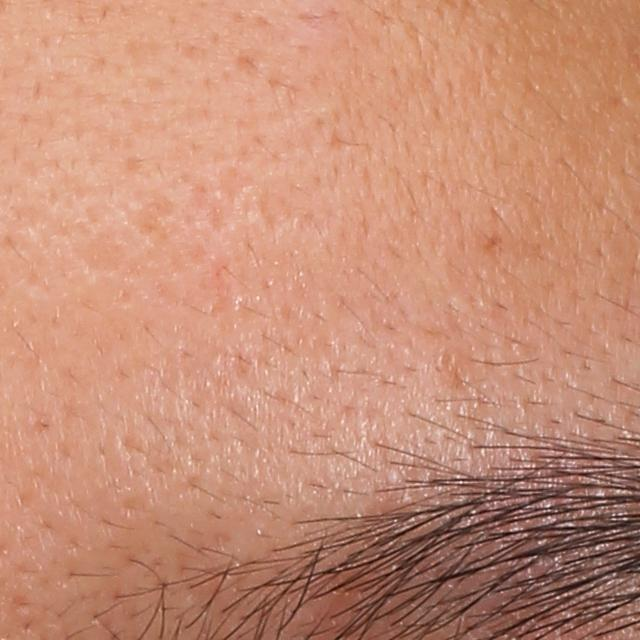atrophic_scar: (70, 227, 136, 284), (237, 49, 268, 76)
